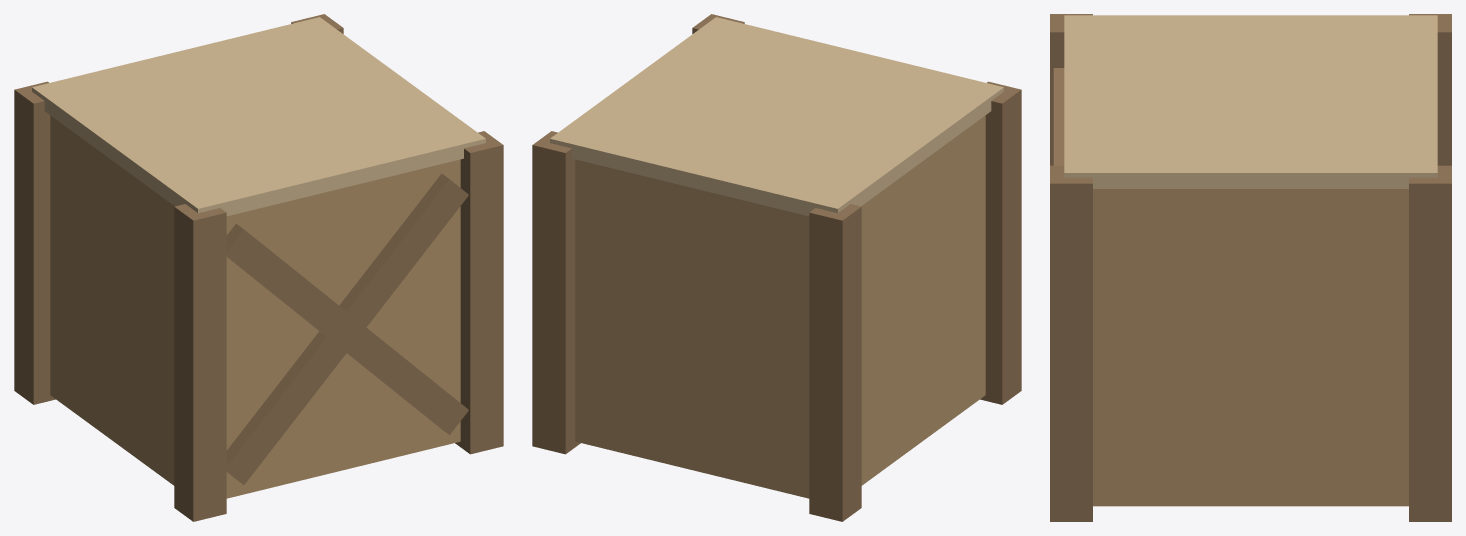
Rendered from CrateSmall.glb.
3 renders of one model, left to right at view 1: azimuth 30°, elevation 25°; view 2: azimuth 150°, elevation 25°; view 3: azimuth 270°, elevation 25°, orthographic. The views are drawn at different scales.
Parts seen in each view (by area): view 1: CrateSmall_Body, CrateSmall_Lid, CrateSmall_Edge, CrateSmall_Edge.002, CrateSmall_Brace.001, CrateSmall_Edge.001, CrateSmall_Brace; view 2: CrateSmall_Body, CrateSmall_Lid, CrateSmall_Edge.001, CrateSmall_Edge.003, CrateSmall_Edge; view 3: CrateSmall_Body, CrateSmall_Lid, CrateSmall_Edge.002, CrateSmall_Edge.003, CrateSmall_Edge.001, CrateSmall_Edge, CrateSmall_Brace.
Part boxes in pixels (x1,y1,x2,y2): CrateSmall_Body: (50,115,460,498); CrateSmall_Lid: (32,17,485,216); CrateSmall_Edge: (174,204,226,521); CrateSmall_Edge.002: (455,131,503,454); CrateSmall_Brace.001: (226,173,468,484); CrateSmall_Edge.001: (14,81,55,404); CrateSmall_Brace: (226,223,468,434); CrateSmall_Body: (575,115,985,498); CrateSmall_Lid: (550,17,1003,216); CrateSmall_Edge.001: (809,204,861,521); CrateSmall_Edge.003: (532,131,580,454); CrateSmall_Edge: (980,81,1021,404); CrateSmall_Body: (1093,189,1408,506); CrateSmall_Lid: (1064,15,1437,188); CrateSmall_Edge.002: (1050,165,1092,521); CrateSmall_Edge.003: (1409,165,1451,521); CrateSmall_Edge.001: (1409,14,1451,165); CrateSmall_Edge: (1050,14,1092,165); CrateSmall_Brace: (1053,68,1064,165).
Size of the model in its own units: 1.12 by 1.05 by 1.12.
